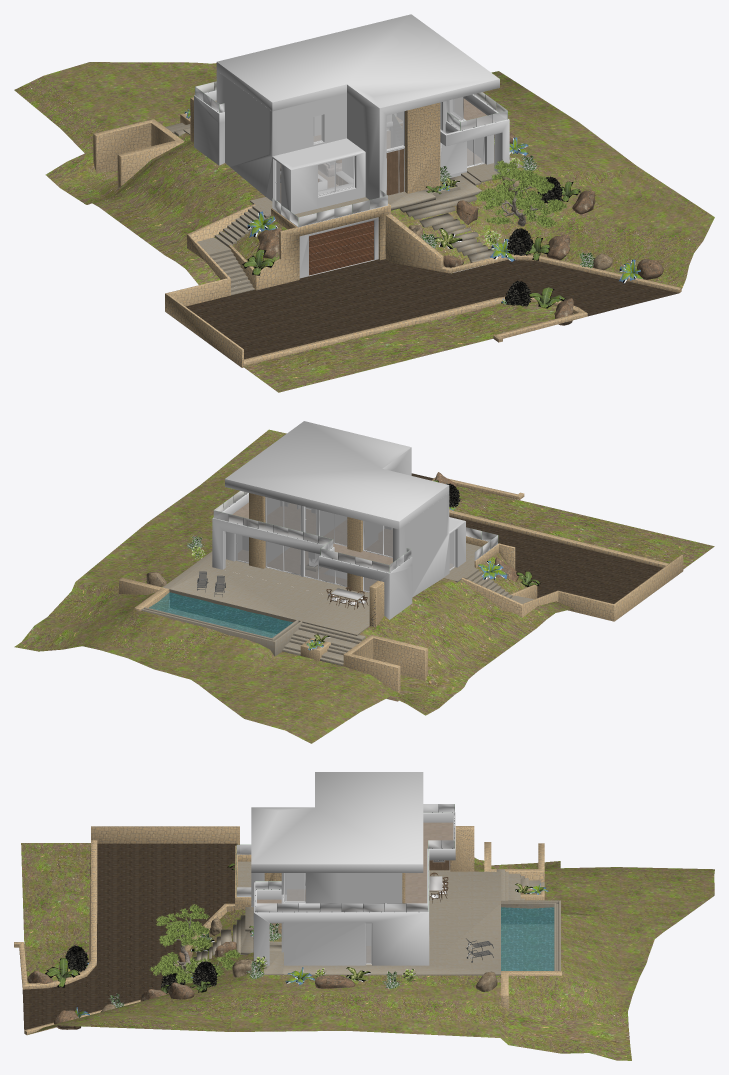
Rendered from mi-casa-mi-futuro.glb.
3 views of the same model, one above another, from view 1: azimuth 30°, elevation 25°; view 2: azimuth 150°, elevation 25°; view 3: azimuth 270°, elevation 25° (orthographic). The views are drawn at different scales.
Parts seen in each view (by area): view 1: Plane.003_Ground003_0, Plane_Plaster_0, Plane.002_stone_pathway_02_0, Plane_rock_wall_11_disp_2k_0, Cube.010_Concrete048_0, Cube_Glass_0, Bonsai_GG050089_0, rock_Rock05_0, Cube.027_synthetic_wood_0, DogwoodTree.002__LC_Dogwood_Tree_Material_0, trop_leav 4_trop_leav 4_0, ferns 1_ferns 1_0 (+4 smaller); view 2: Plane.003_Ground003_0, Plane_Plaster_0, Cube.010_Concrete048_0, Plane_rock_wall_11_disp_2k_0, Cube_Glass_0, Plane.002_stone_pathway_02_0, Cube.028_TilesTravertine_0, Water_Water_0, Cube_WindowFrame_0; view 3: Plane.003_Ground003_0, Plane_Plaster_0, Plane.002_stone_pathway_02_0, Cube.010_Concrete048_0, Plane_rock_wall_11_disp_2k_0, Cube_Glass_0, Water_Water_0, Bonsai_GG050089_0, rock_Rock05_0, Cube.028_TilesTravertine_0, DogwoodTree.002__LC_Dogwood_Tree_Material_0, rock.002_Rock08_0 (+2 smaller).
Boxes of the visible parts, x1=… form: Plane.003_Ground003_0: x1=14, y1=62, x2=714, y2=392; Plane_Plaster_0: x1=194, y1=14, x2=509, y2=278; Plane.002_stone_pathway_02_0: x1=186, y1=259, x2=678, y2=359; Plane_rock_wall_11_disp_2k_0: x1=93, y1=97, x2=681, y2=367; Cube.010_Concrete048_0: x1=165, y1=123, x2=522, y2=295; Cube_Glass_0: x1=195, y1=81, x2=507, y2=226; Bonsai_GG050089_0: x1=476, y1=159, x2=566, y2=228; rock_Rock05_0: x1=257, y1=132, x2=663, y2=325; Cube.027_synthetic_wood_0: x1=309, y1=179, x2=373, y2=275; DogwoodTree.002__LC_Dogwood_Tree_Material_0: x1=505, y1=176, x2=562, y2=306; trop_leav 4_trop_leav 4_0: x1=242, y1=181, x2=580, y2=308; ferns 1_ferns 1_0: x1=184, y1=109, x2=642, y2=304; Plane.003_Ground003_0: x1=14, y1=429, x2=714, y2=743; Plane_Plaster_0: x1=212, y1=421, x2=465, y2=619; Cube.010_Concrete048_0: x1=141, y1=543, x2=533, y2=666; Plane_rock_wall_11_disp_2k_0: x1=119, y1=477, x2=683, y2=701; Cube_Glass_0: x1=213, y1=491, x2=497, y2=599; Plane.002_stone_pathway_02_0: x1=411, y1=473, x2=662, y2=603; Cube.028_TilesTravertine_0: x1=232, y1=502, x2=452, y2=592; Water_Water_0: x1=149, y1=592, x2=292, y2=637; Cube_WindowFrame_0: x1=235, y1=497, x2=455, y2=605; Plane.003_Ground003_0: x1=21, y1=843, x2=714, y2=1060; Plane_Plaster_0: x1=174, y1=772, x2=455, y2=967; Plane.002_stone_pathway_02_0: x1=22, y1=843, x2=237, y2=1029; Cube.010_Concrete048_0: x1=181, y1=861, x2=560, y2=975; Plane_rock_wall_11_disp_2k_0: x1=14, y1=826, x2=561, y2=1035; Cube_Glass_0: x1=237, y1=804, x2=454, y2=963; Water_Water_0: x1=501, y1=907, x2=554, y2=970; Bonsai_GG050089_0: x1=149, y1=904, x2=240, y2=983; rock_Rock05_0: x1=27, y1=941, x2=355, y2=1029; Cube.028_TilesTravertine_0: x1=257, y1=822, x2=453, y2=962; DogwoodTree.002__LC_Dogwood_Tree_Material_0: x1=65, y1=945, x2=217, y2=992; rock.002_Rock08_0: x1=101, y1=918, x2=497, y2=1011.
Size of the model in its own units: 0.5092 by 0.1599 by 0.68.
Materials: 37 (27 with a texture image).
